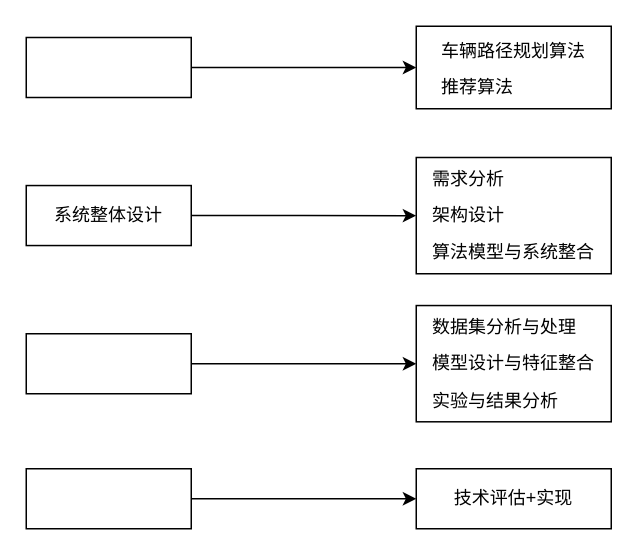
Image size: 638x555. Some labels were removed from this diagram. The shapes that lost their labels are listed below. From the top down, each one's centre as x and y in pixels, then its label:
At [108,67]: "相关文献查询".
At [108,363]: "推荐模型设计".
At [108,498]: "算法与系统整合".
